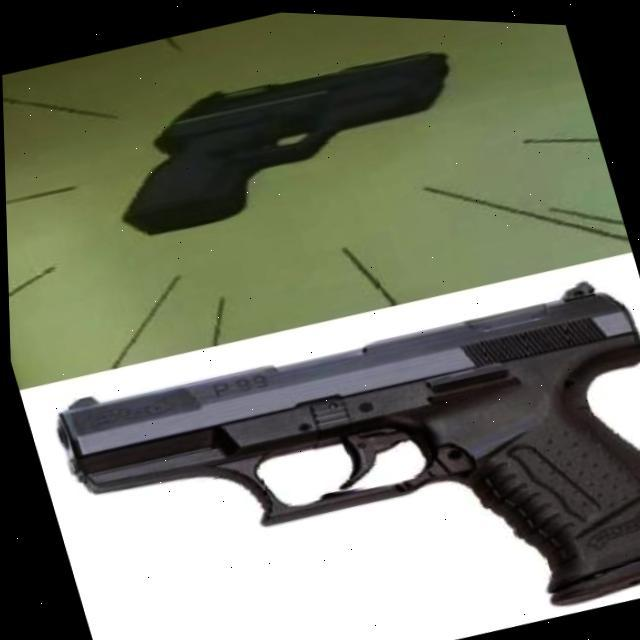gun: (42, 246, 640, 640), (89, 21, 482, 256)
